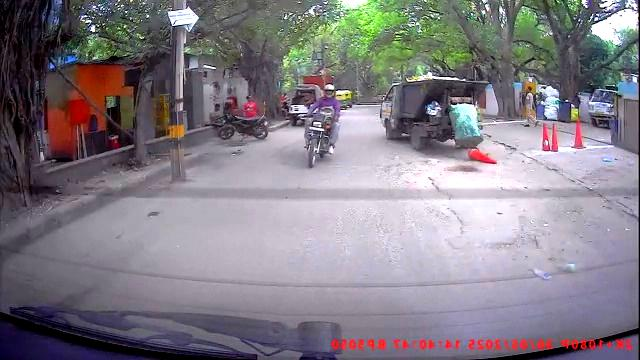motorcycle_with_helmet: (300, 82, 341, 171)
